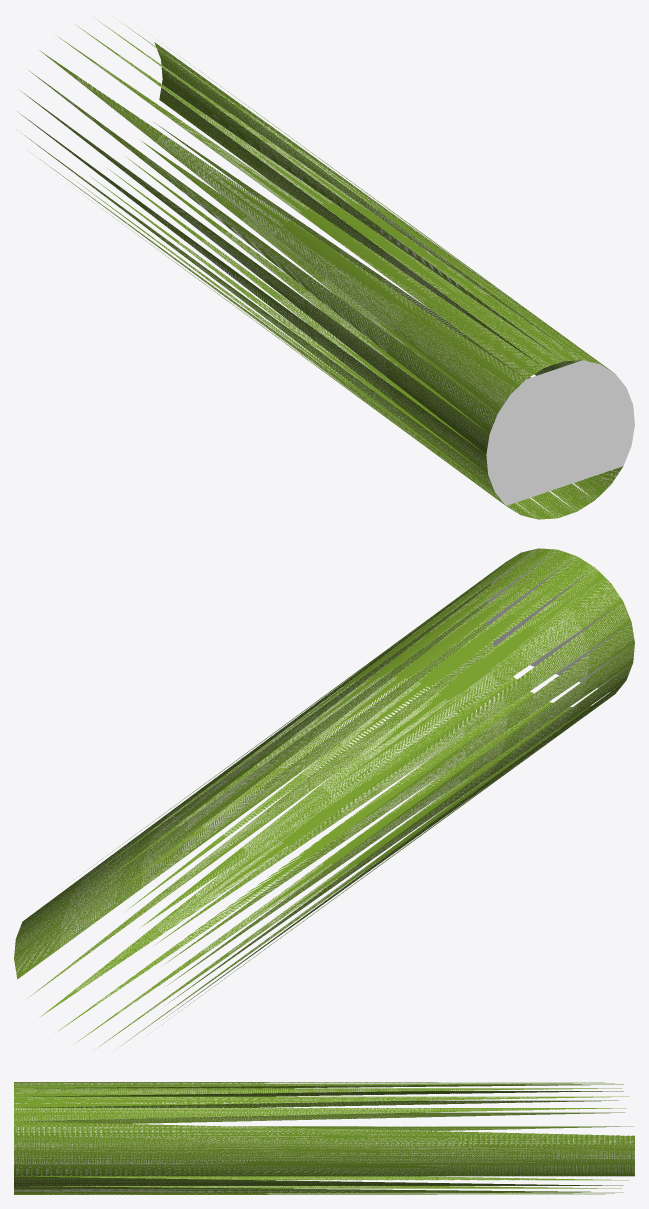
The picture shows the model from 3 angles, top to bottom: view 1: azimuth 30°, elevation 25°; view 2: azimuth 150°, elevation 25°; view 3: azimuth 270°, elevation 25°; orthographic projection. The views are drawn at different scales.
Bounding box in the file's own units: 0.0249 × 0.0249 × 0.1369.
